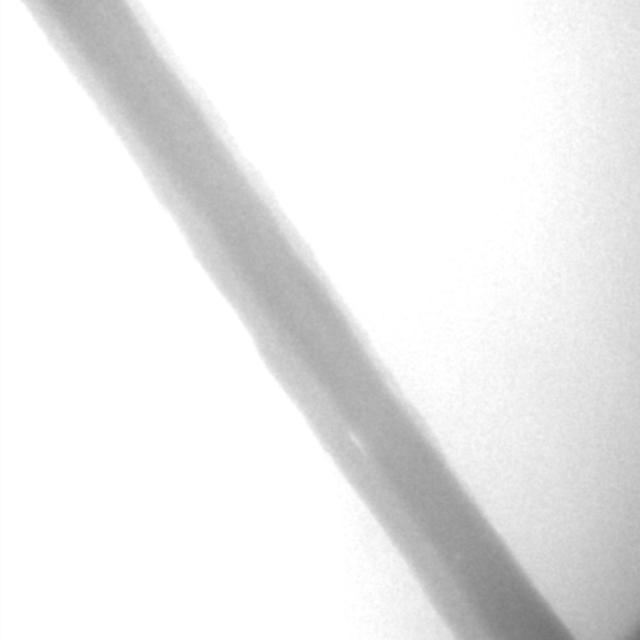air hole: (347, 428, 364, 449)
